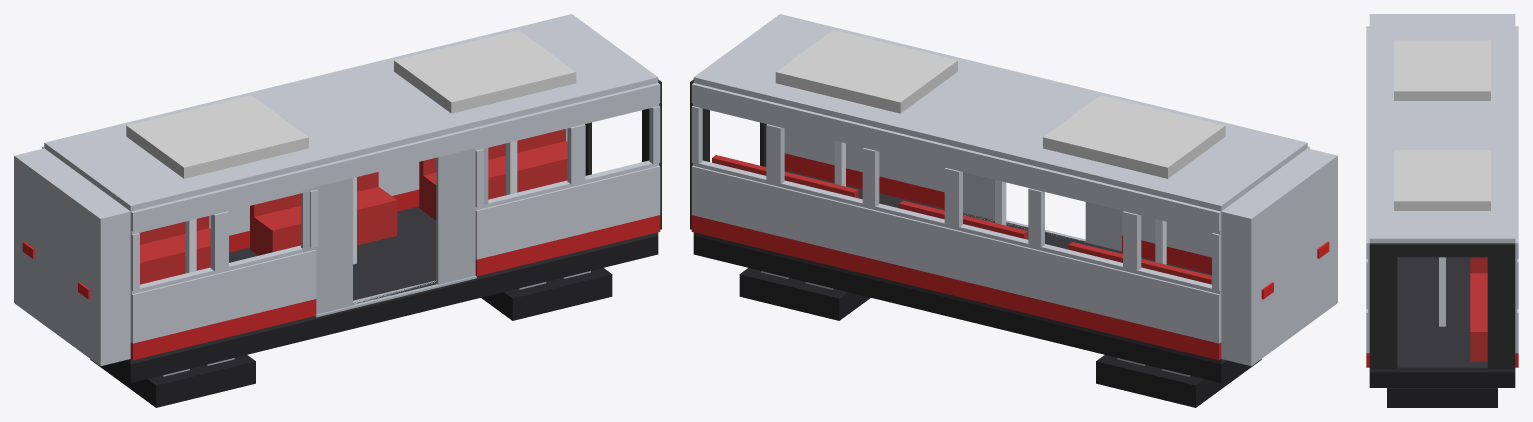
File: metro_wagon_rear_half_l3.obj
The picture shows the model from 3 angles, left to right: view 1: azimuth 30°, elevation 25°; view 2: azimuth 150°, elevation 25°; view 3: azimuth 270°, elevation 25°; orthographic projection. The views are drawn at different scales.
Size of the model in its own units: 3.16 by 1.26 by 0.88.
